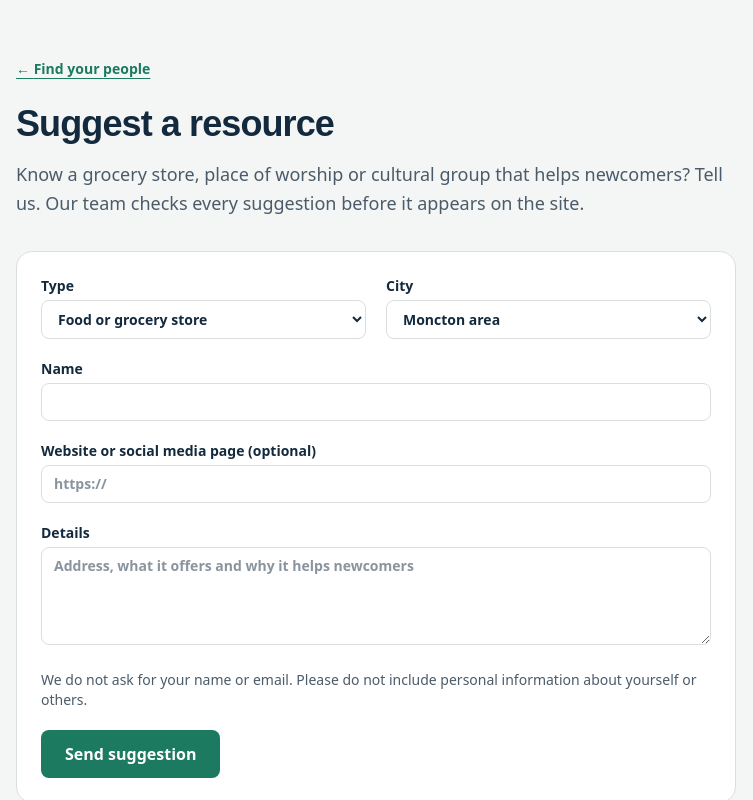
Scenario: SuggestPage › explains when someone has sent too many suggestions
Type "Store" into the field labelled "Name" at (376, 402), box [41, 382, 711, 420]
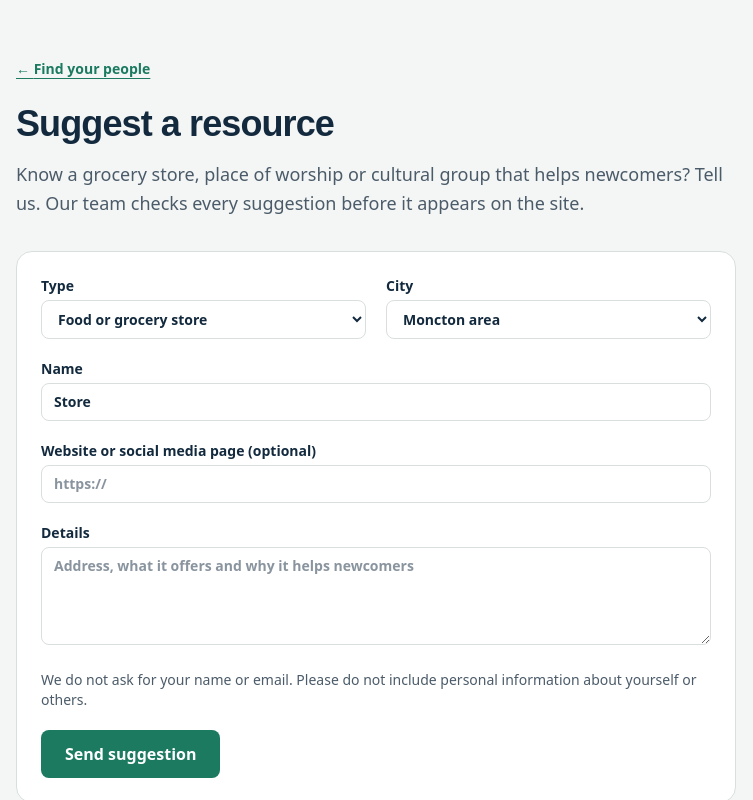
Type "A store with food from home" into the text box labelled "Details" at (376, 596), box [41, 546, 711, 644]
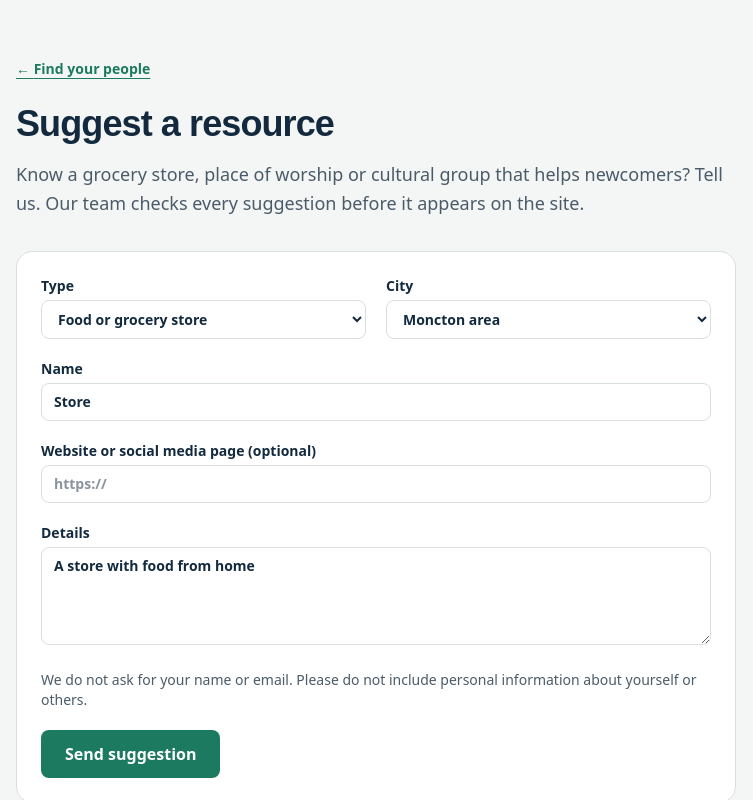
Click the button "Send suggestion" at (131, 754), box [41, 730, 220, 778]
(page scrolled)
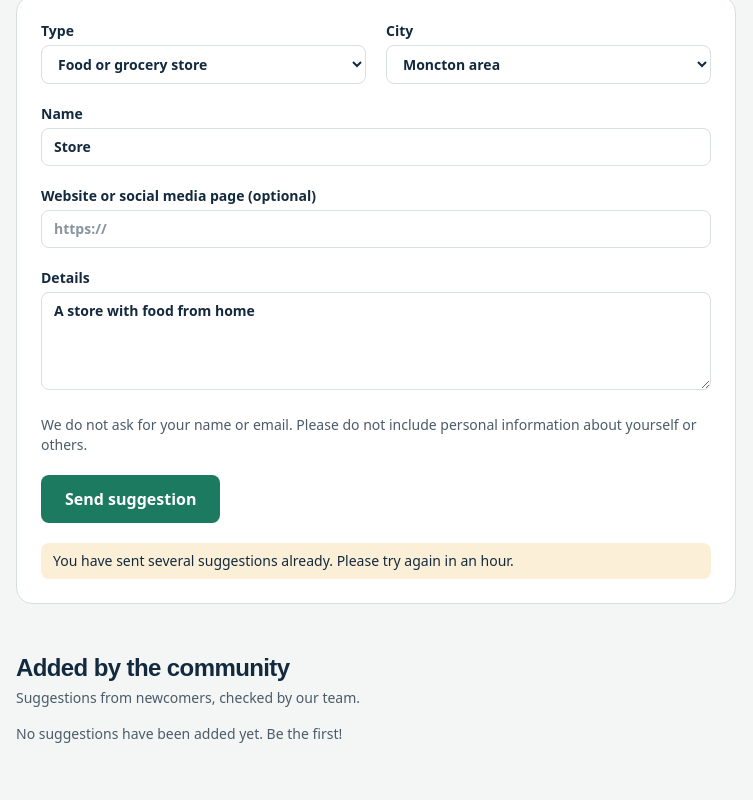
Check: the message shows "try again in an hour", box [53, 550, 514, 570]
